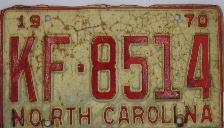1: (150, 33, 182, 101)
4: (184, 32, 218, 102)
5: (123, 34, 153, 101)
8: (87, 32, 118, 101)
F: (40, 33, 71, 103)
K: (8, 33, 39, 104)
